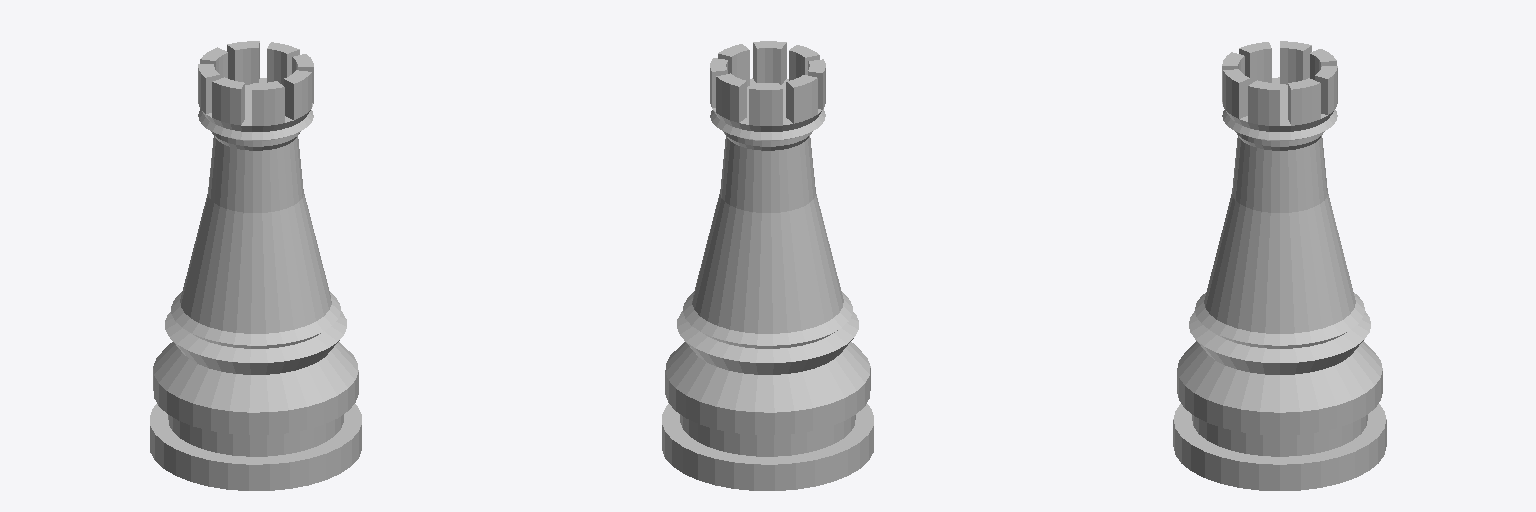
The model's file is rook.obj.
The picture shows the model from 3 angles: view 1: azimuth 30°, elevation 25°; view 2: azimuth 150°, elevation 25°; view 3: azimuth 270°, elevation 25°; orthographic projection.
Visible parts, largest first — view 1: Circle; view 2: Circle; view 3: Circle.
Boxes of the visible parts, <box> form: Circle: <box>150,41,361,490</box>; Circle: <box>662,41,873,490</box>; Circle: <box>1173,41,1386,490</box>.
Size of the model in its own units: 2 by 3.94 by 2.